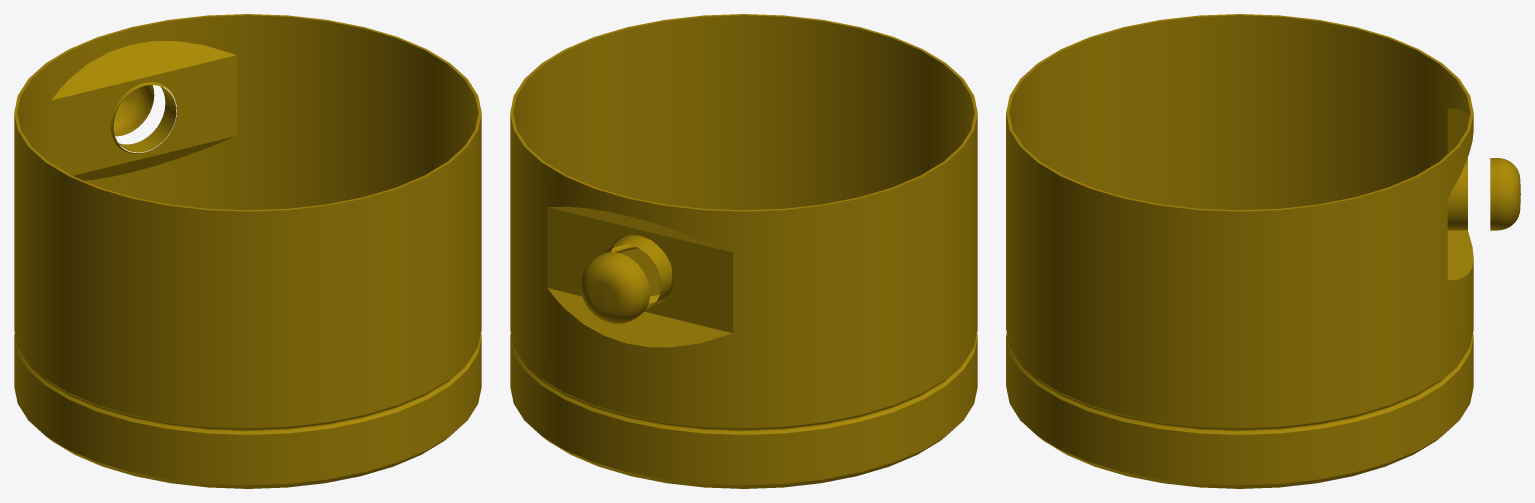
Rendered from ur3e_scaled_41.obj.
3 views of the same model, side by side, from view 1: azimuth 30°, elevation 25°; view 2: azimuth 150°, elevation 25°; view 3: azimuth 270°, elevation 25° (orthographic).
Bounding box in the file's own units: 0.063 × 0.0417 × 0.0693.
